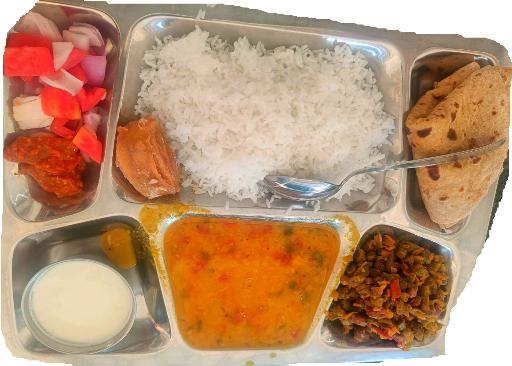Curd: (11, 253, 148, 358)
Dal: (158, 222, 337, 364)
Pickle: (0, 138, 88, 215)
Rice: (140, 29, 400, 219)
Roti: (403, 31, 512, 237)
Salad: (0, 2, 112, 133)
Sweet: (121, 119, 174, 207)
Vegetable: (337, 237, 467, 360)
